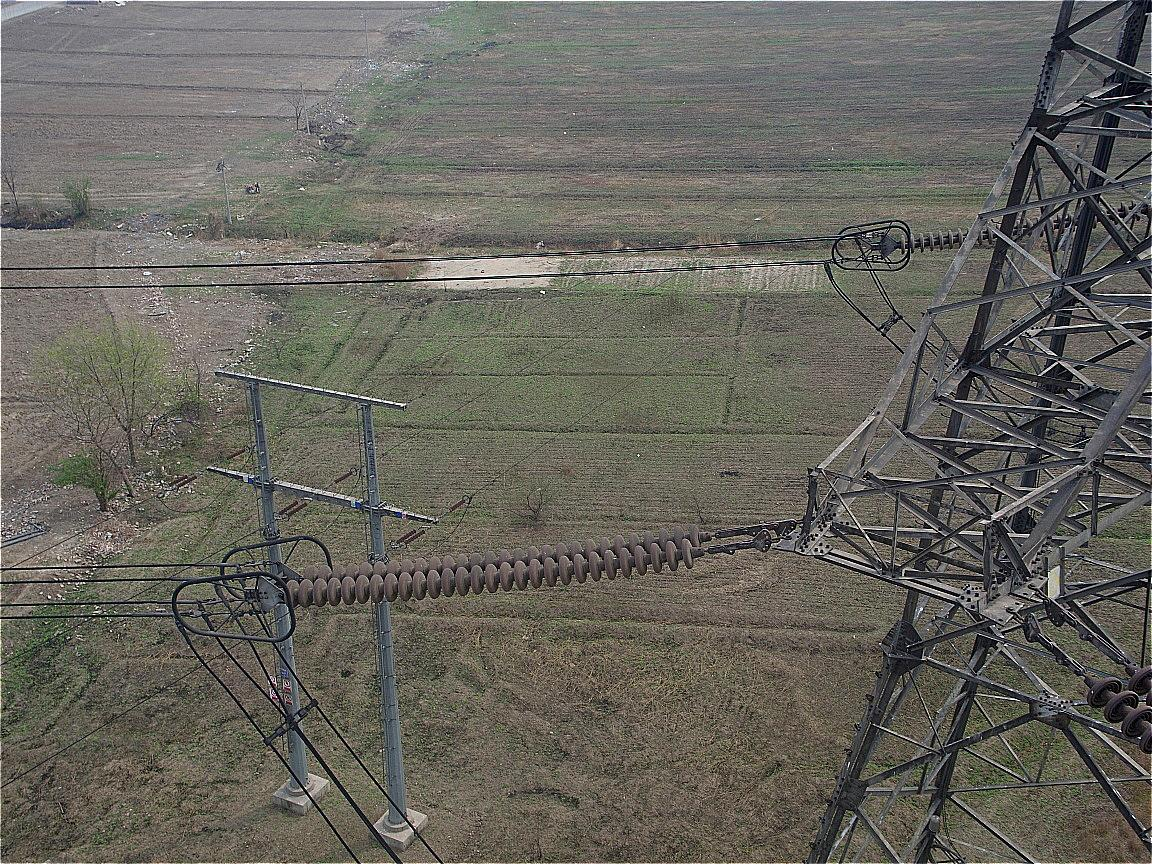insultor1: (254, 521, 731, 617)
